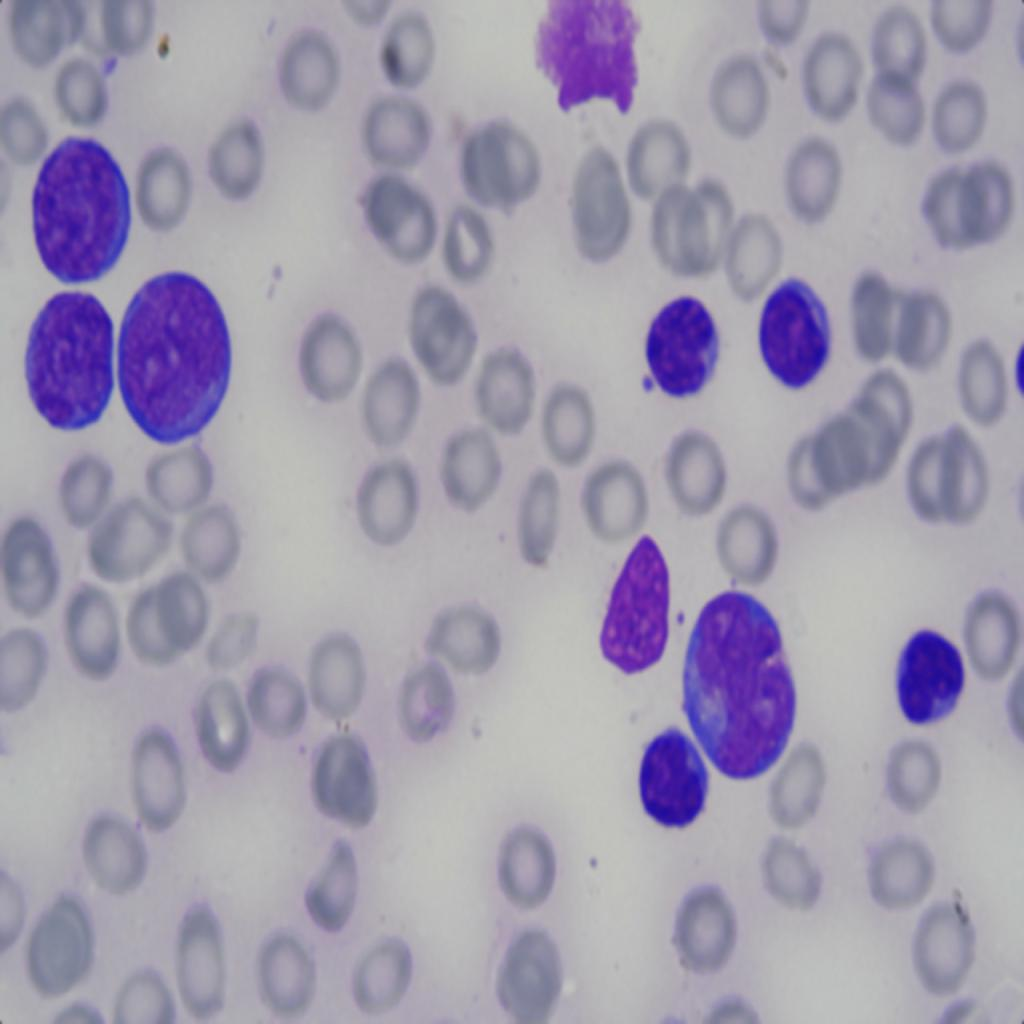Myeoblast: (676, 582, 806, 781), (110, 270, 238, 447), (22, 128, 138, 291), (12, 283, 117, 436), (584, 532, 674, 678), (742, 261, 840, 393), (882, 610, 974, 744), (632, 277, 722, 400), (623, 728, 715, 844)
Platelet: (638, 366, 660, 408)
